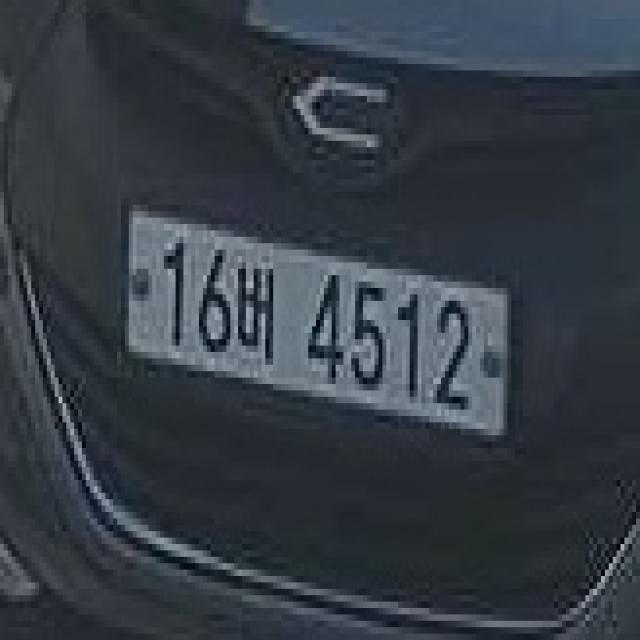1: (390, 275, 430, 416), (156, 224, 191, 365)
2: (429, 288, 476, 422)
4: (300, 262, 348, 390)
5: (348, 268, 390, 409)
6: (195, 230, 234, 372)
beo: (234, 256, 281, 378)
license_plate: (109, 198, 519, 468)
